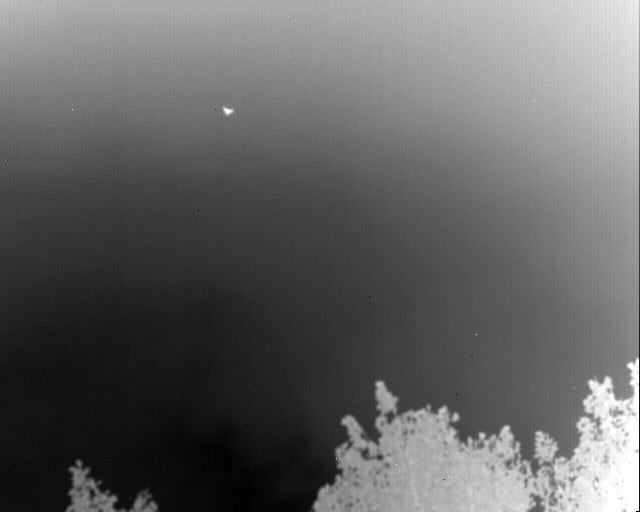plane: (222, 105, 234, 115)
